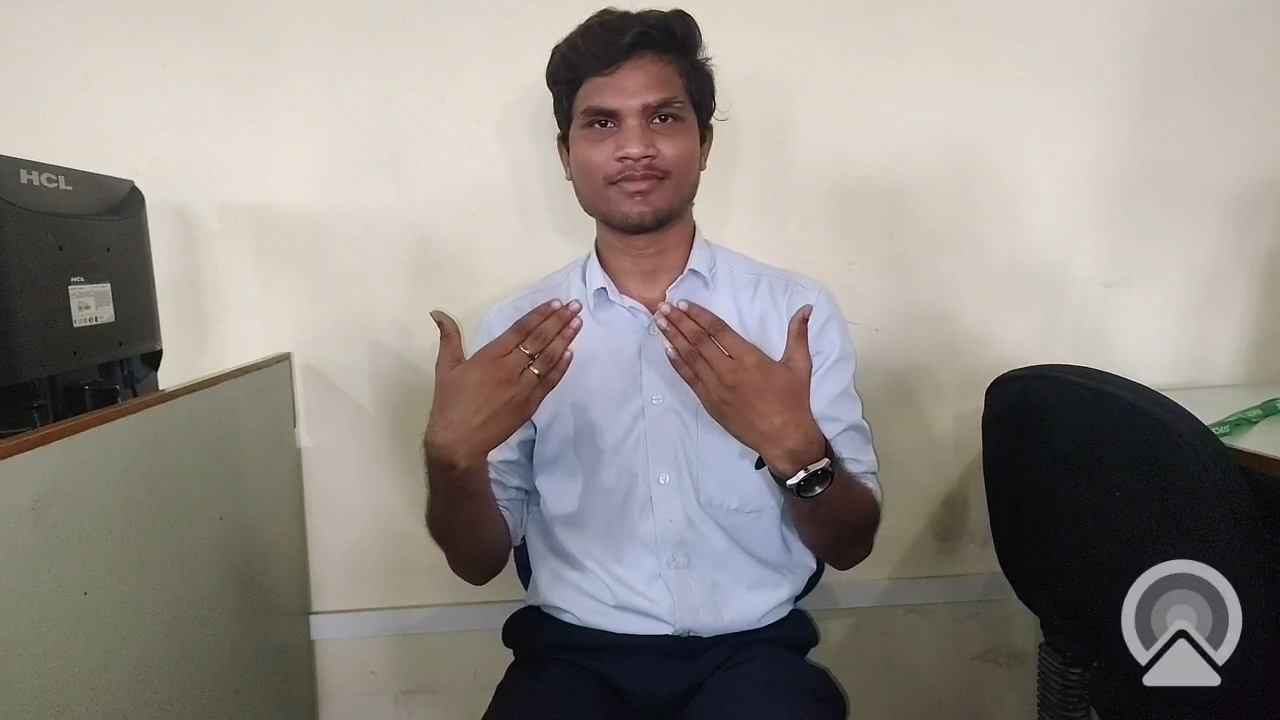Thank you: (396, 286, 896, 526)
